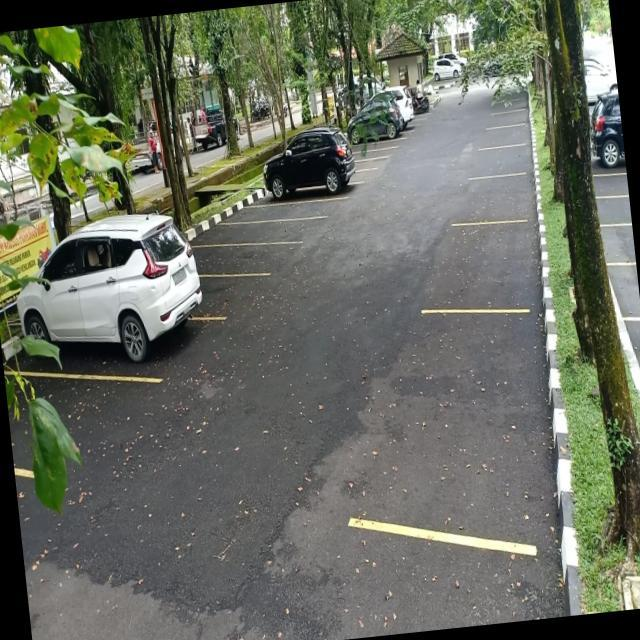empty: (406, 300, 558, 564), (446, 214, 542, 320), (456, 169, 533, 230), (197, 234, 290, 280), (235, 196, 329, 226), (214, 215, 294, 250)
occupied: (6, 242, 216, 388), (258, 138, 360, 208)
